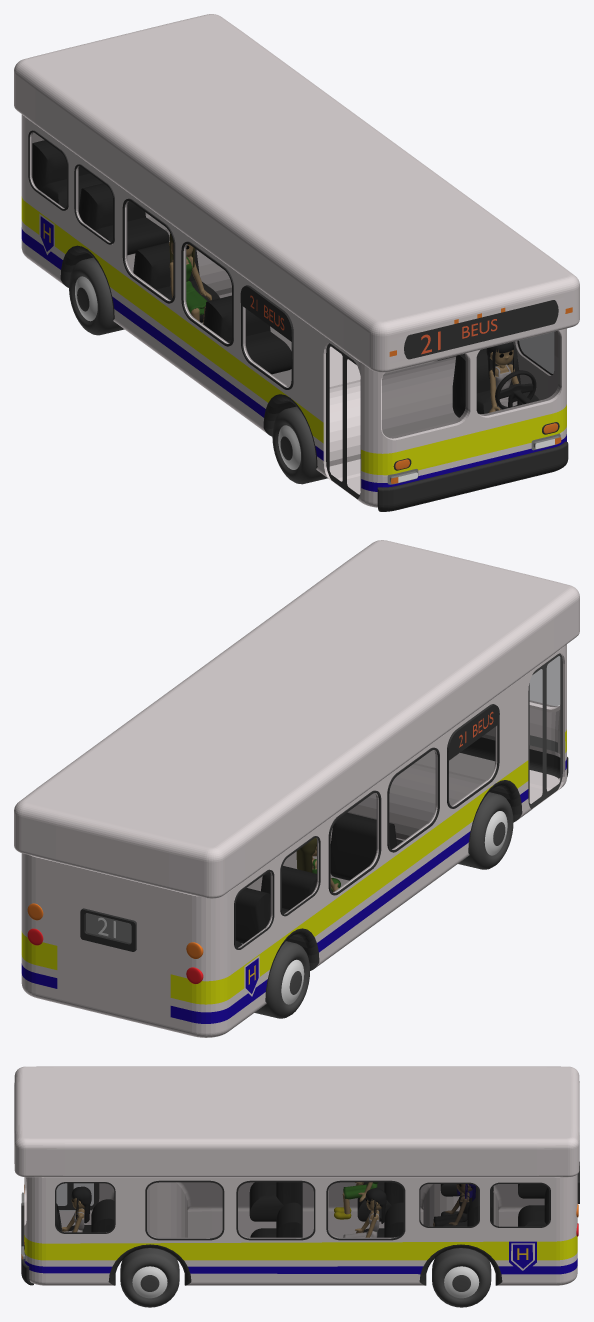
Rendered from finalbus.fbx.
The picture shows the model from 3 angles, top to bottom: view 1: azimuth 30°, elevation 25°; view 2: azimuth 150°, elevation 25°; view 3: azimuth 270°, elevation 25°; orthographic projection. The views are drawn at different scales.
Visible parts, largest first — view 1: Cube, Cube.014, Cube.013, Cube.009, Cube.007, Cube.025, Cube.021, wheel 2, wheel 1, Cube.008, Cube.023, Cube.011 (+9 smaller); view 2: Cube, Cube.007, Cube.009, Cube.021, wheel 1, wheel 2, Cube.008, Cube.010, Cube.011, Cube.012, Cube.025, Plane (+4 smaller); view 3: Cube, Cube.001, Cube.002, Cube.003, wheel 3, wheel 4, Cube.006, Cube.005, Cube.004, Cube.021, Cube.022, Cube.027 (+14 smaller).
Boxes of the visible parts, x1,y1,x2,y2 form: Cube: [14, 14, 579, 511]; Cube.014: [382, 353, 467, 438]; Cube.013: [477, 331, 560, 415]; Cube.009: [126, 201, 172, 300]; Cube.007: [185, 244, 231, 343]; Cube.025: [78, 183, 169, 254]; Cube.021: [203, 295, 291, 374]; wheel 2: [69, 257, 124, 335]; wheel 1: [272, 406, 327, 484]; Cube.008: [244, 308, 291, 386]; Cube.023: [32, 140, 102, 209]; Cube.011: [31, 132, 66, 208]; Cube: [14, 540, 579, 1037]; Cube.007: [389, 750, 436, 849]; Cube.009: [331, 793, 377, 892]; Cube.021: [330, 812, 402, 880]; wheel 1: [458, 792, 513, 869]; wheel 2: [254, 941, 309, 1018]; Cube.008: [449, 727, 495, 805]; Cube.010: [282, 838, 317, 914]; Cube.011: [236, 872, 271, 947]; Cube.012: [447, 704, 499, 808]; Cube.025: [235, 888, 288, 943]; Plane: [528, 653, 562, 809]; Cube: [14, 1066, 579, 1285]; Cube.001: [238, 1182, 313, 1238]; Cube.002: [147, 1182, 222, 1238]; Cube.003: [328, 1182, 403, 1238]; wheel 3: [120, 1248, 179, 1307]; wheel 4: [432, 1248, 491, 1307]; Cube.006: [56, 1183, 113, 1232]; Cube.005: [491, 1184, 548, 1226]; Cube.004: [420, 1184, 477, 1226]; Cube.021: [249, 1182, 302, 1221]; Cube.022: [250, 1202, 302, 1237]; Cube.027: [68, 1199, 114, 1232].
Size of the model in its own units: 234 by 229 by 699.
